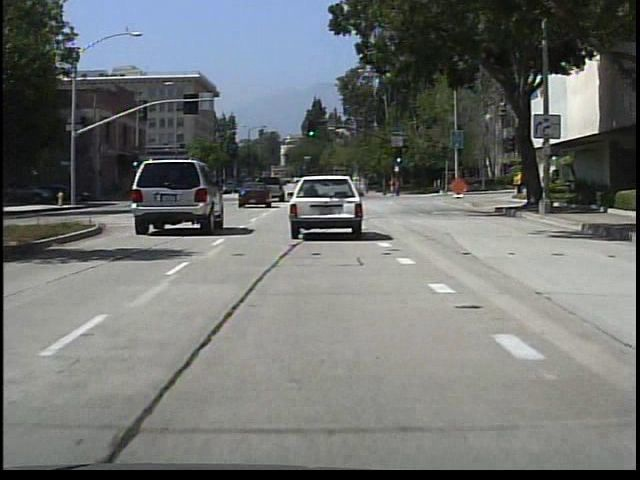person: (388, 172, 402, 200)
